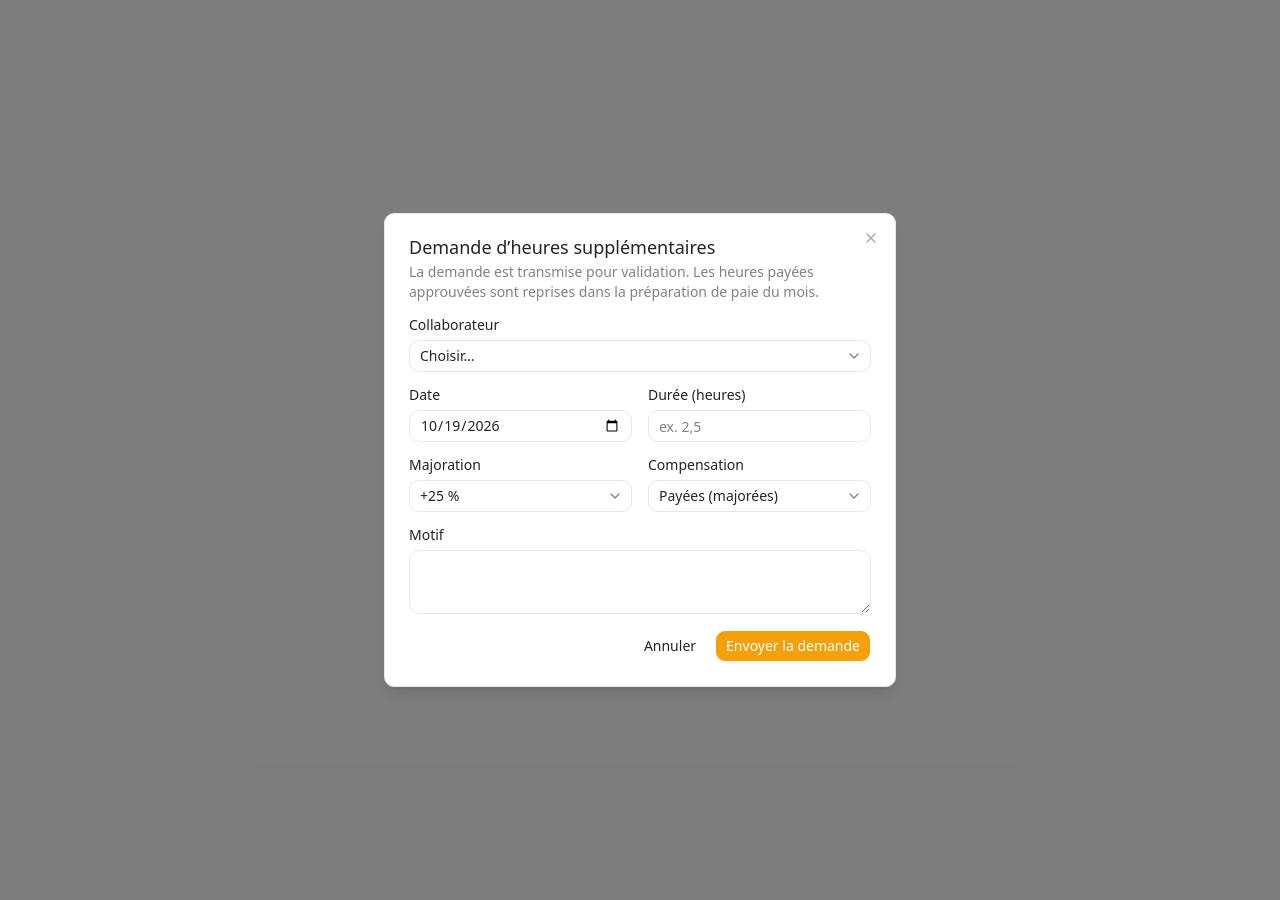
Test: DemandeHeuresSupDialog › valideur : collaborateur à choisir (refus si vide)
Expected: the dropdown named "Collaborateur" is shown, [409,340,871,372]
Step 1. Type "1" into the field labelled "Durée (heures)" → (760, 426), box [648,410,871,442]
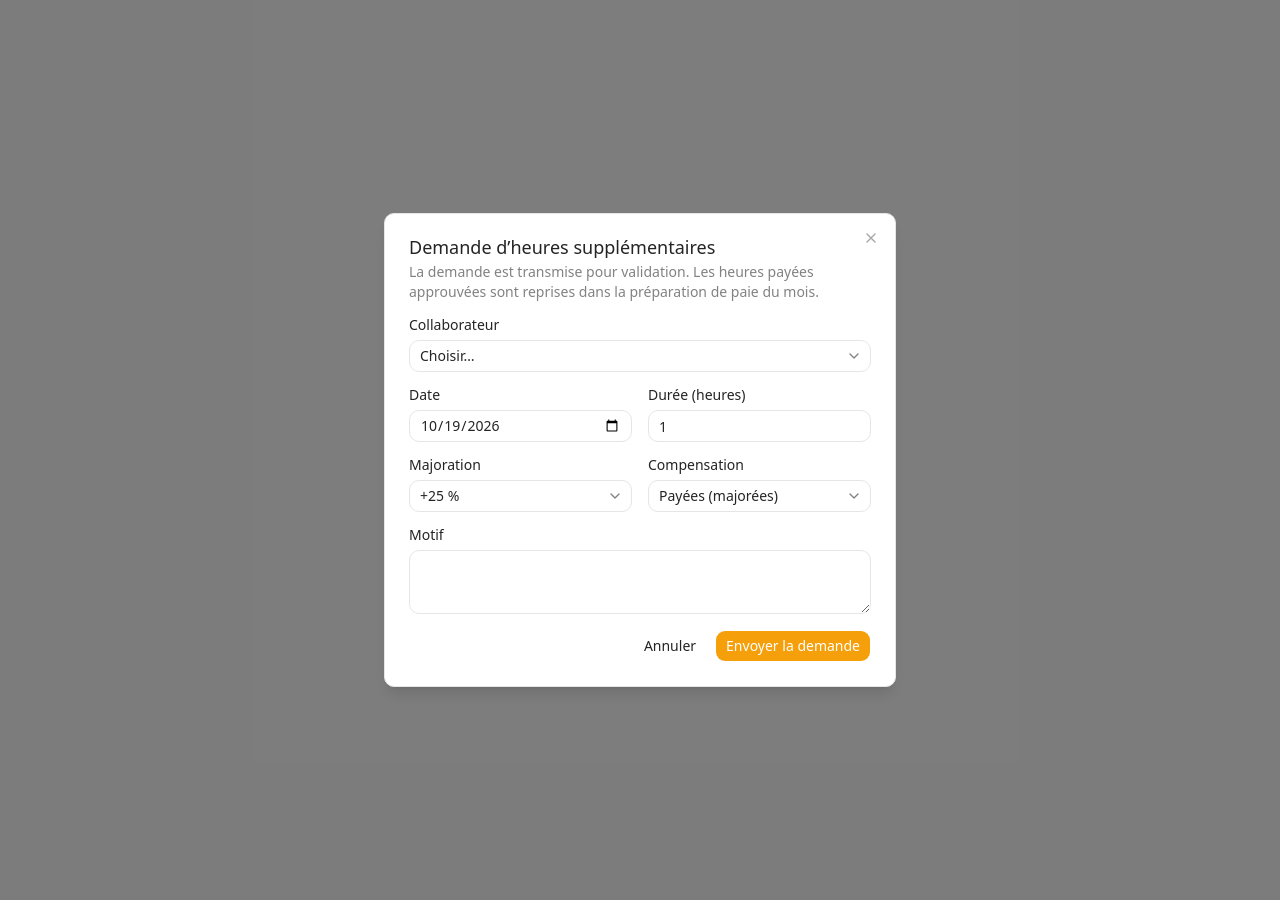
Step 2. Click the button "Envoyer la demande" → (793, 646), box [715,630,871,662]
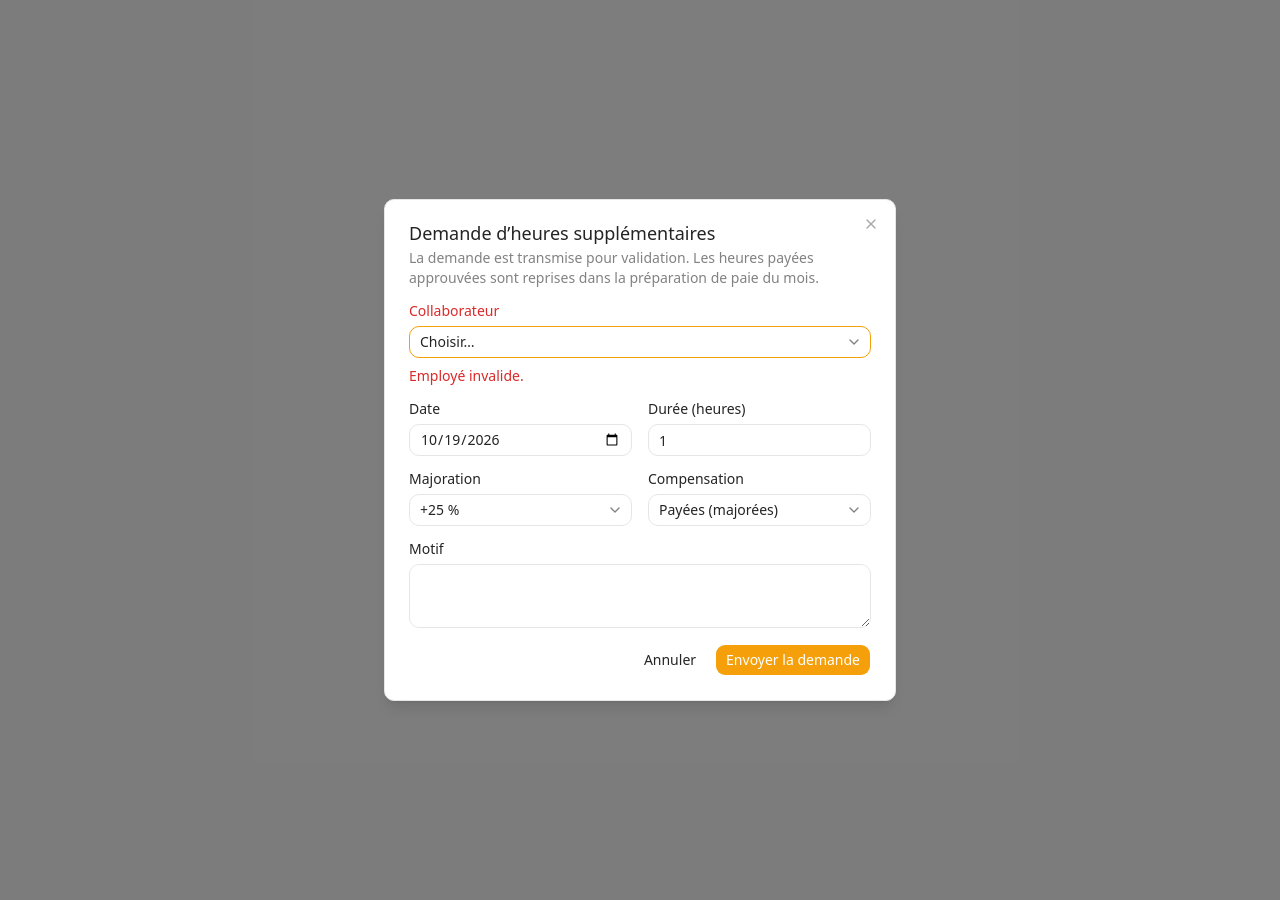
Now the text "Employé invalide." is shown, box [409,366,524,385]
